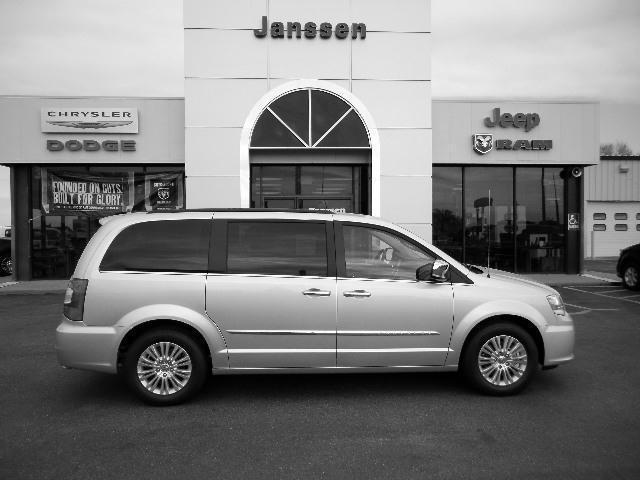car: (41, 188, 572, 409)
